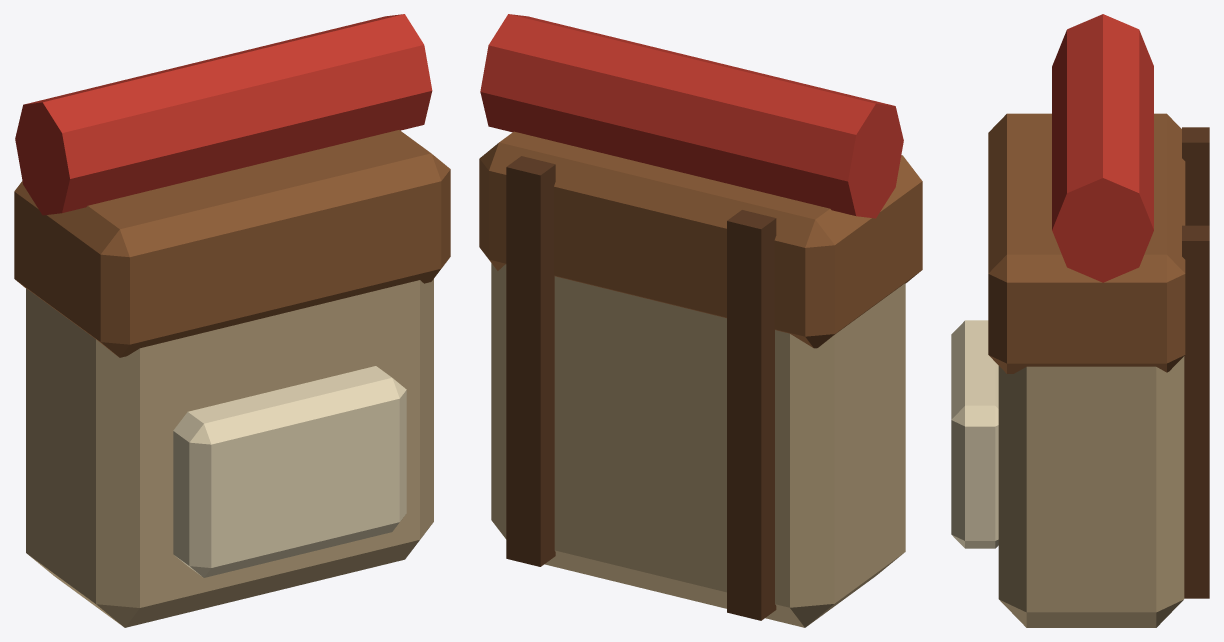
File: Backpack.fbx
The picture shows the model from 3 angles, left to right: view 1: azimuth 30°, elevation 25°; view 2: azimuth 150°, elevation 25°; view 3: azimuth 270°, elevation 25°; orthographic projection. The views are drawn at different scales.
Visible parts, largest first — view 1: Backpack; view 2: Backpack; view 3: Backpack.
Part boxes in pixels (x1,y1,x2,y2): Backpack: (14,14,450,627); Backpack: (479,14,922,627); Backpack: (951,14,1209,627).
Size of the model in its own units: 1.5 by 2 by 1.
